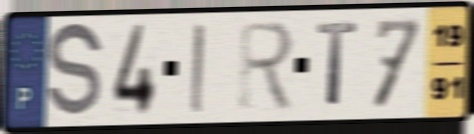4: (109, 21, 159, 118)
7: (372, 15, 422, 111)
I: (188, 21, 207, 115)
R: (237, 19, 297, 115)
S: (44, 19, 106, 124)
T: (315, 20, 361, 111)
